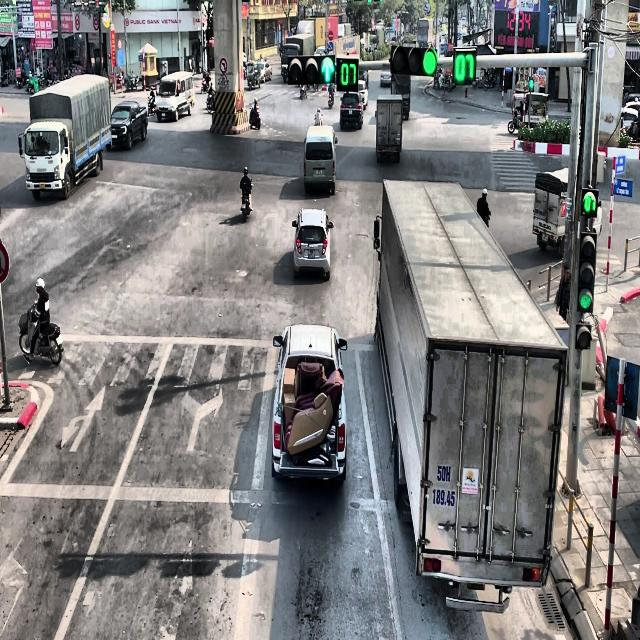CAR: (271, 324, 347, 483), (292, 208, 333, 280), (110, 100, 148, 150), (339, 91, 364, 131)
MOTORBIKE: (18, 303, 63, 365), (240, 182, 252, 222), (508, 105, 522, 133), (248, 104, 261, 130), (147, 93, 156, 116), (206, 89, 215, 112), (299, 84, 307, 99), (328, 90, 334, 108)
TRAFFIC_LIGHT: (577, 229, 596, 314), (389, 44, 438, 76), (287, 53, 336, 85), (452, 47, 477, 83), (336, 57, 359, 90), (580, 188, 598, 218), (320, 54, 335, 83), (528, 76, 534, 92)
TRUCK: (373, 177, 570, 612), (18, 72, 112, 200)
